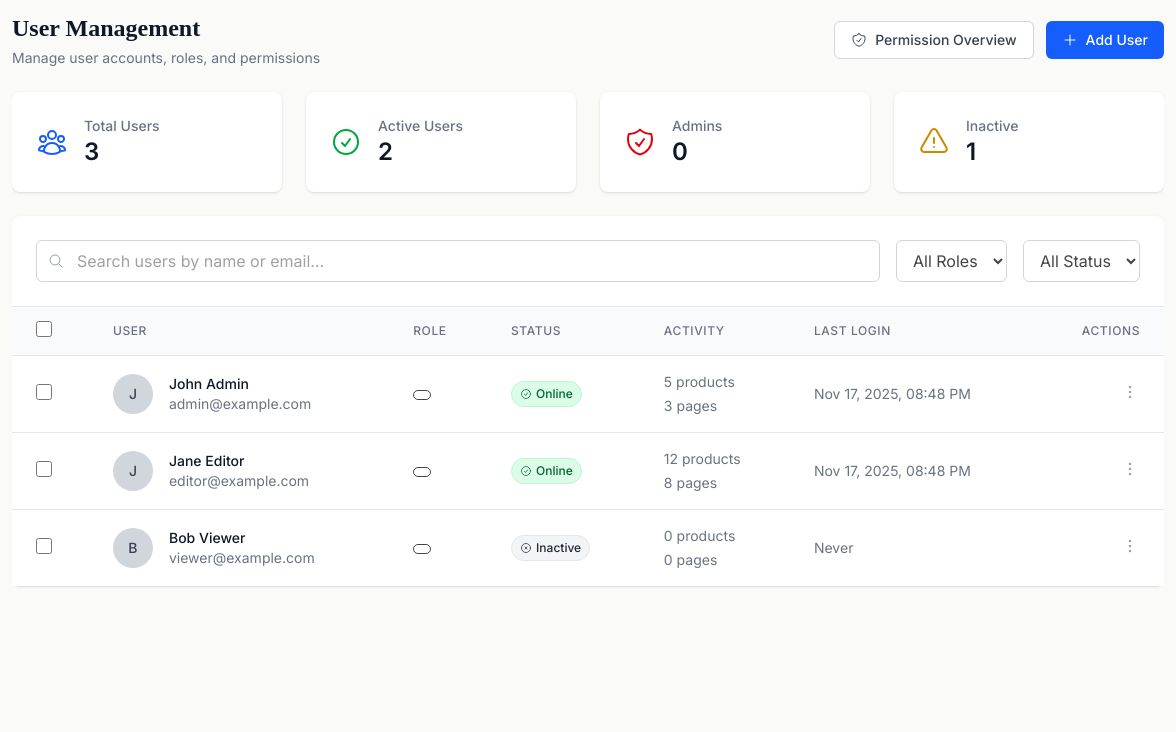
Test case: UserManagement Dashboard › handles user selection for bulk operations
Select first user
Click the checkbox in the row of "John Admin": (44, 392) [36,384,52,400]
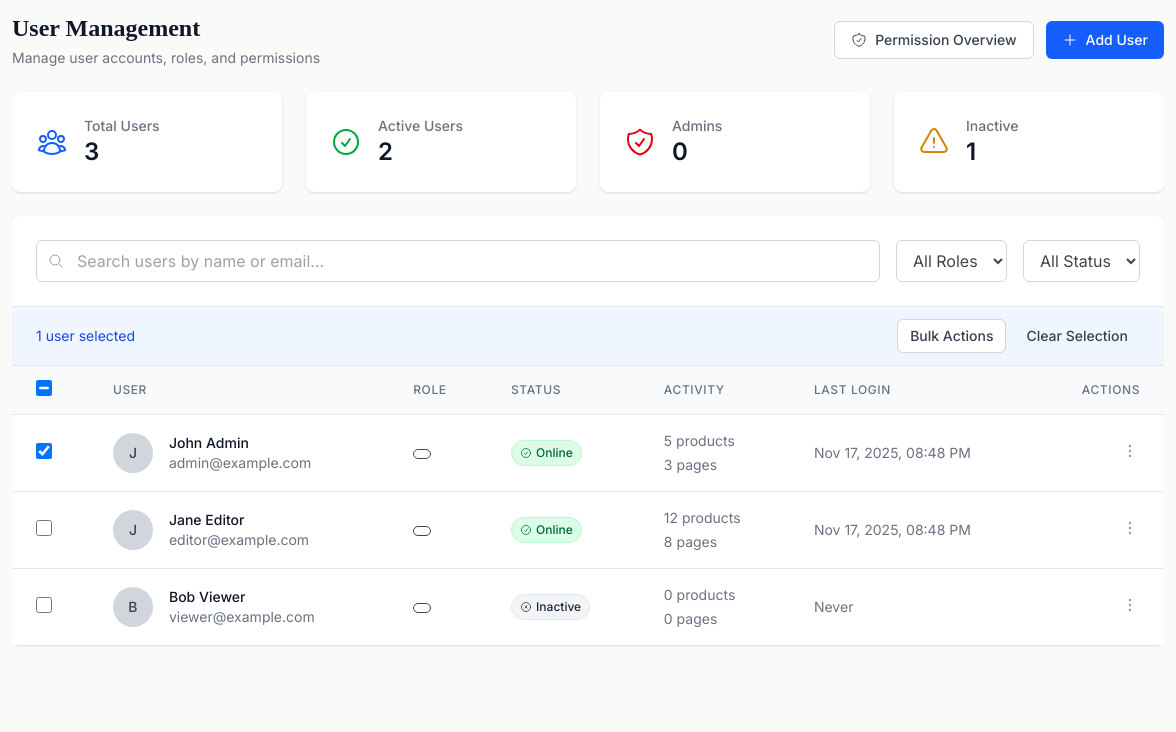
Now the text "1 user selected" is shown, box [36,326,135,346]
Now the button "Bulk Actions" is shown, box [897,319,1006,353]
